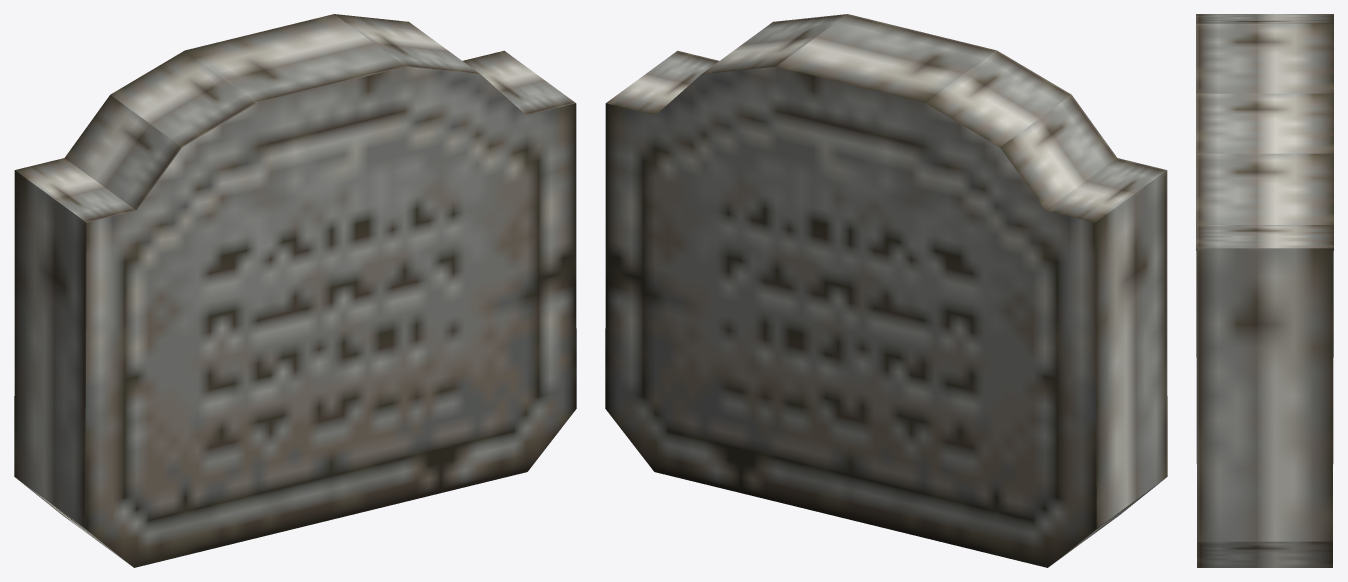
File: Inside_Poly_Stone_Writting_01.obj
3 views of the same model, side by side, from view 1: azimuth 30°, elevation 25°; view 2: azimuth 150°, elevation 25°; view 3: azimuth 270°, elevation 25° (orthographic). The views are drawn at different scales.
Visible parts, largest first — view 1: Cube.001; view 2: Cube.001; view 3: Cube.001.
Part boxes in pixels (box(x1,y1,x2,y2)): Cube.001: box(14, 14, 576, 567); Cube.001: box(605, 14, 1167, 567); Cube.001: box(1196, 14, 1333, 567).
Size of the model in its own units: 1.18 by 1 by 0.3.
1 material, 1 textured.
